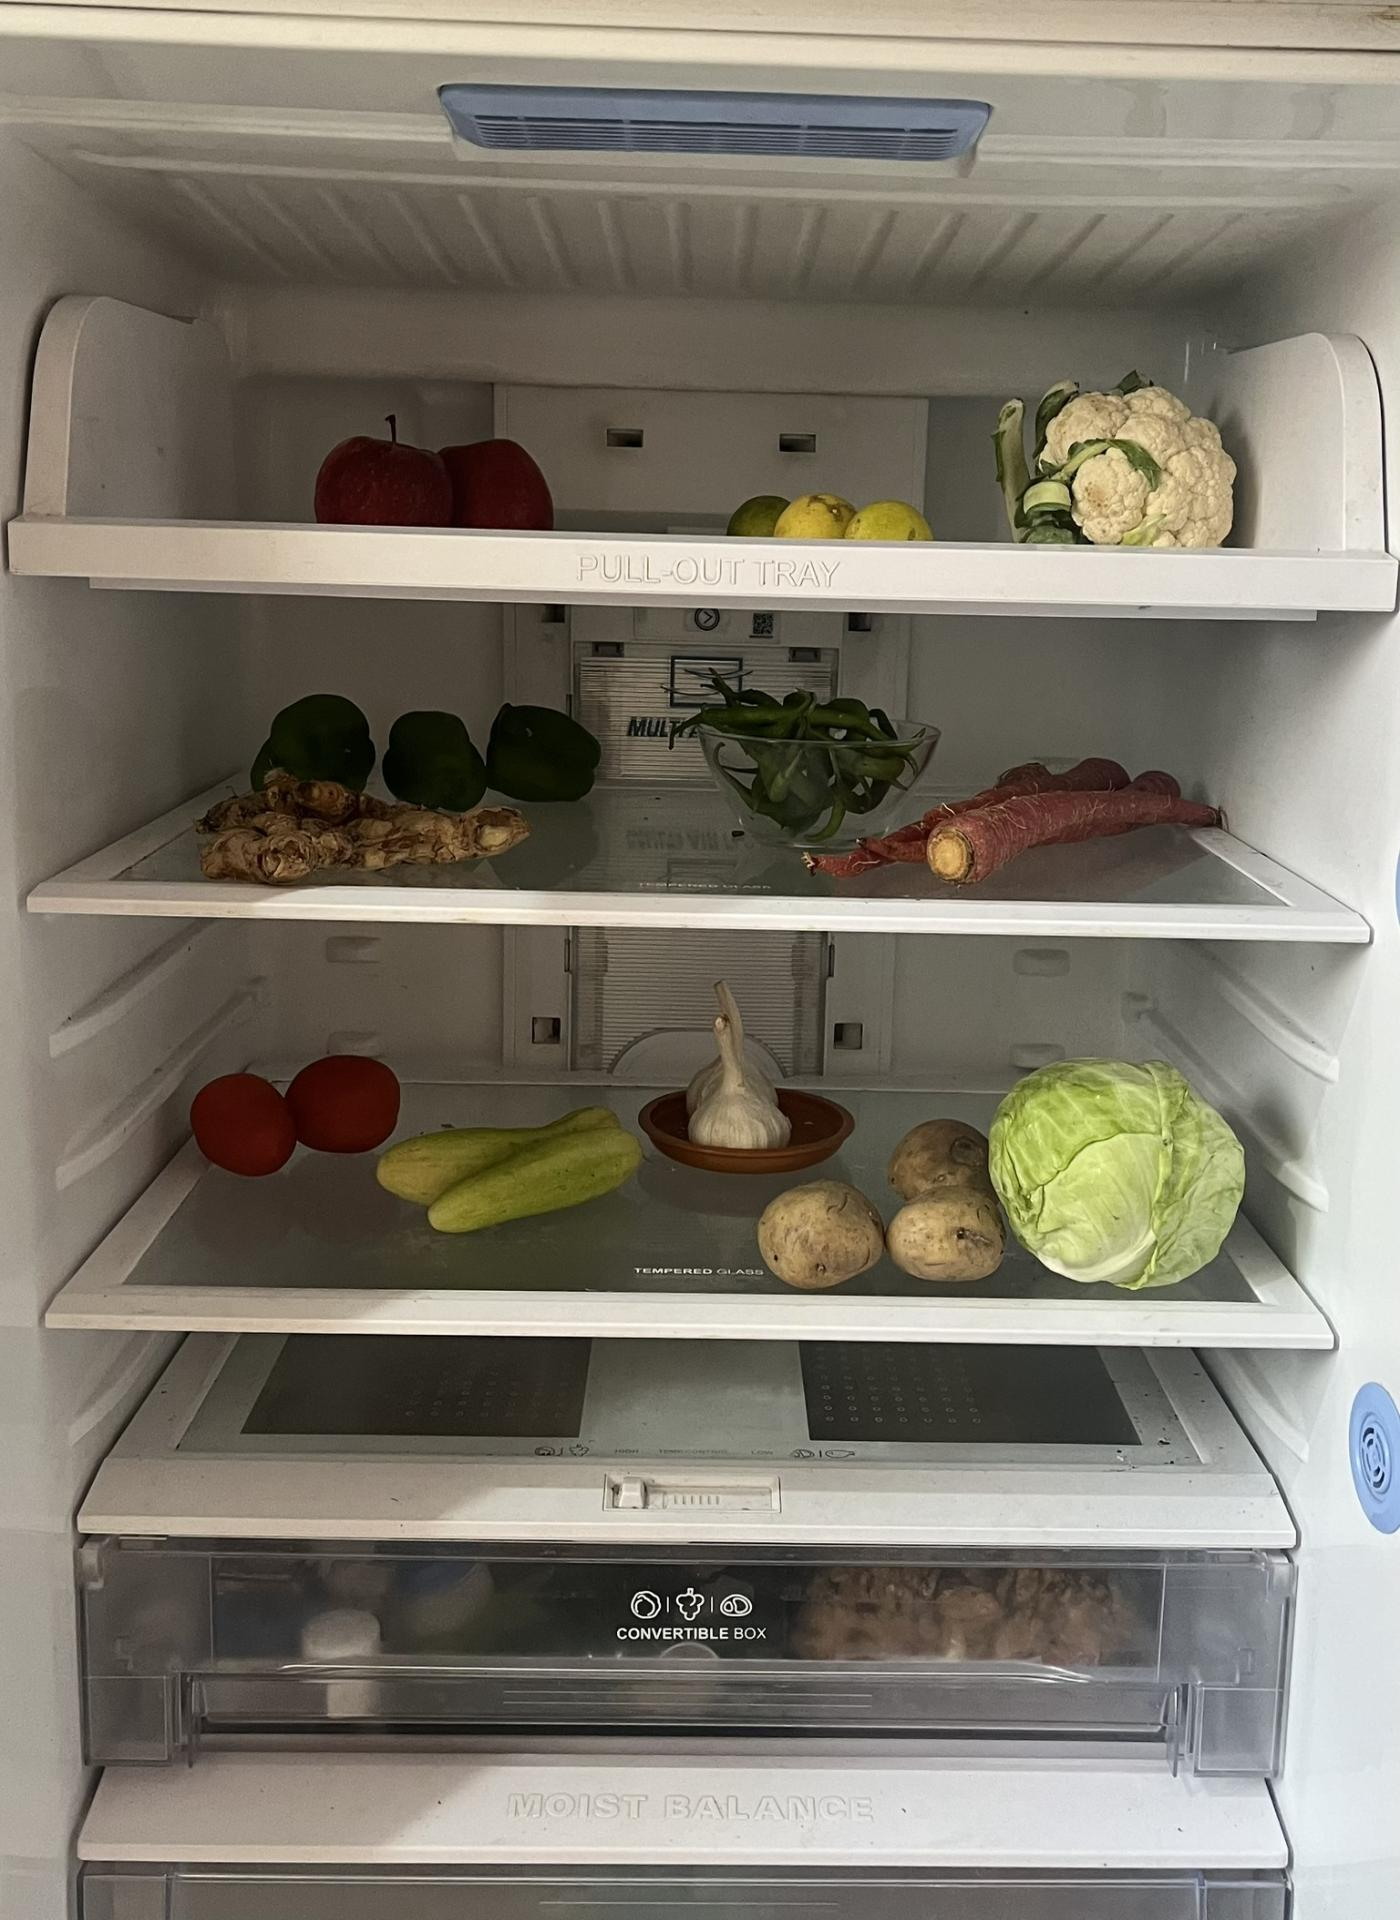apple: (312, 419, 556, 528)
cabbage: (994, 1051, 1246, 1300)
capsicum: (247, 690, 602, 802)
carrots: (824, 751, 1232, 874)
cauliflower: (986, 376, 1229, 546)
chillies: (708, 666, 927, 827)
cucumber: (380, 1108, 646, 1240)
garlic: (689, 976, 796, 1143)
ginger: (207, 771, 532, 871)
lemon: (768, 489, 930, 549)
potato: (754, 1122, 1003, 1280)
tomato: (197, 1033, 404, 1169)
